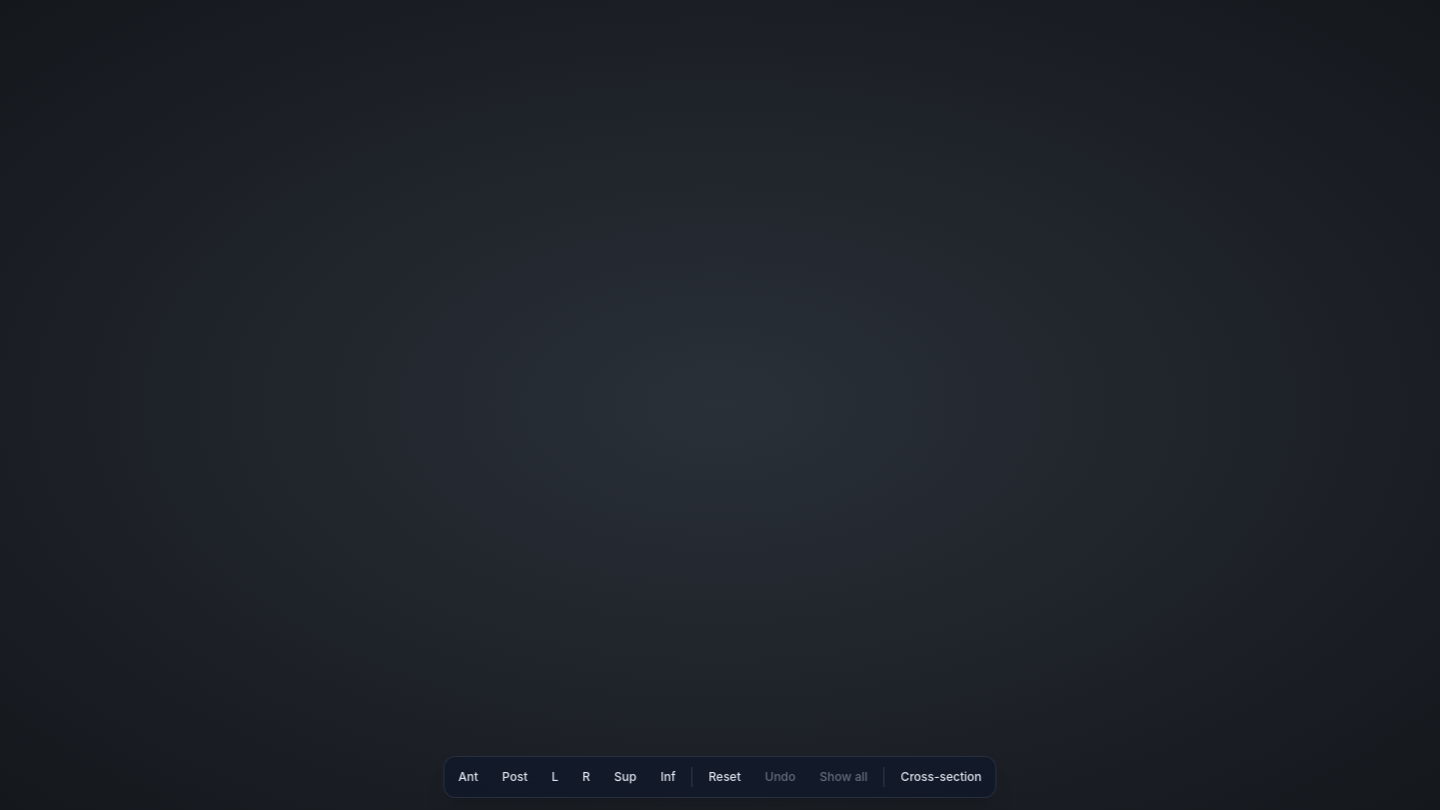
SectionPopover › disables axis radios, position slider, and flip button while section is off
Click the button "Cross-section" at {"x": 941, "y": 777}, box [891,761,992,793]
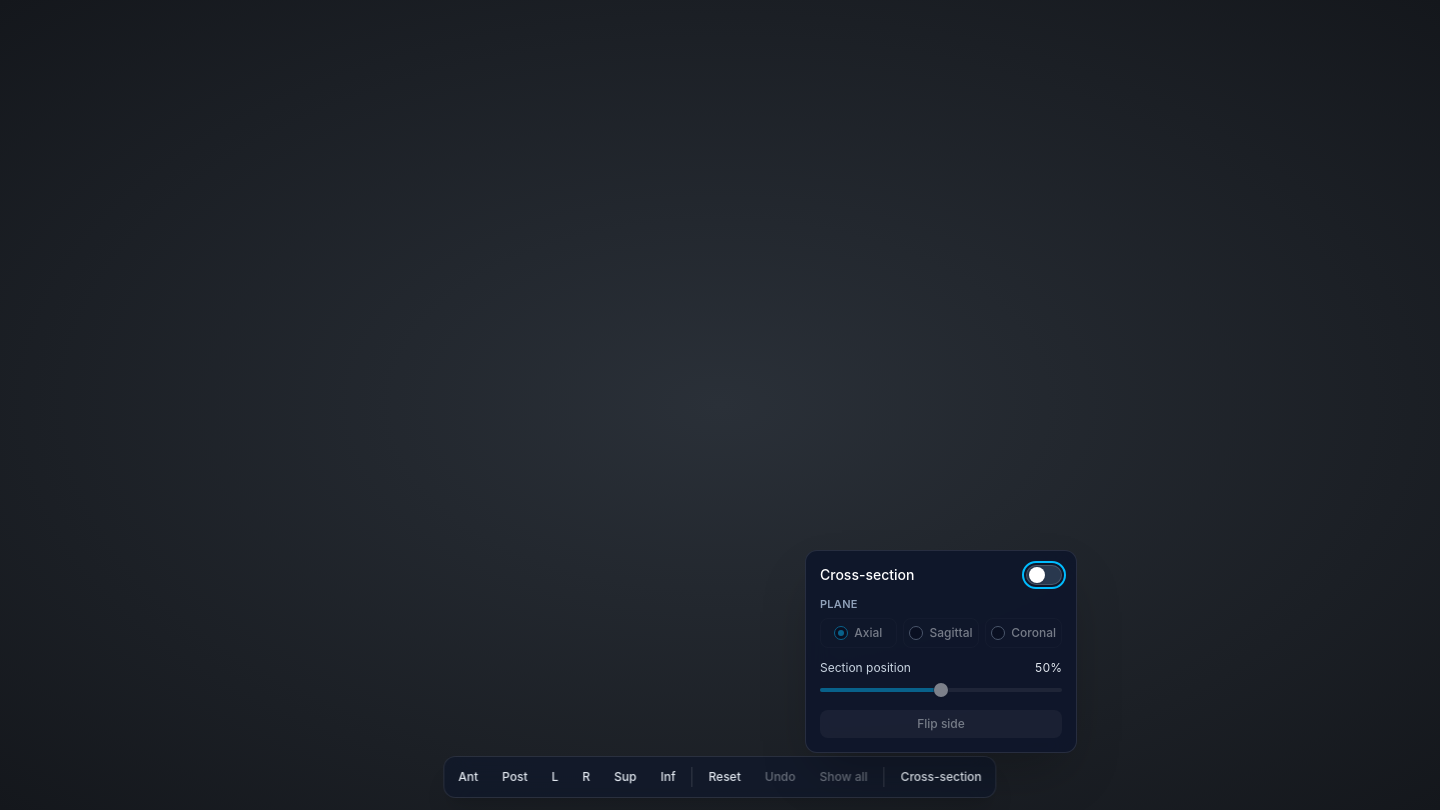
Now the switch named "Cross-section" is shown, box [1026,565,1062,585]
Now the button "Flip side" is disabled, box [820,710,1062,738]
